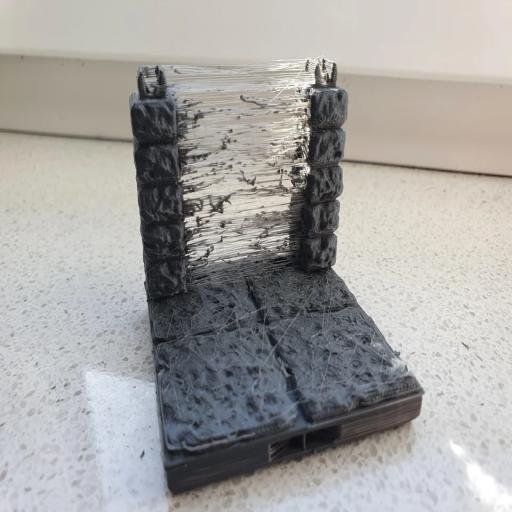stringing: (168, 58, 330, 271)
